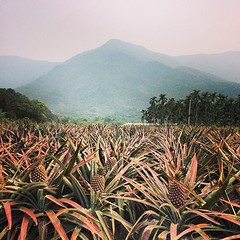Pineapple: (168, 172, 186, 209), (29, 150, 48, 183), (88, 166, 106, 194)
